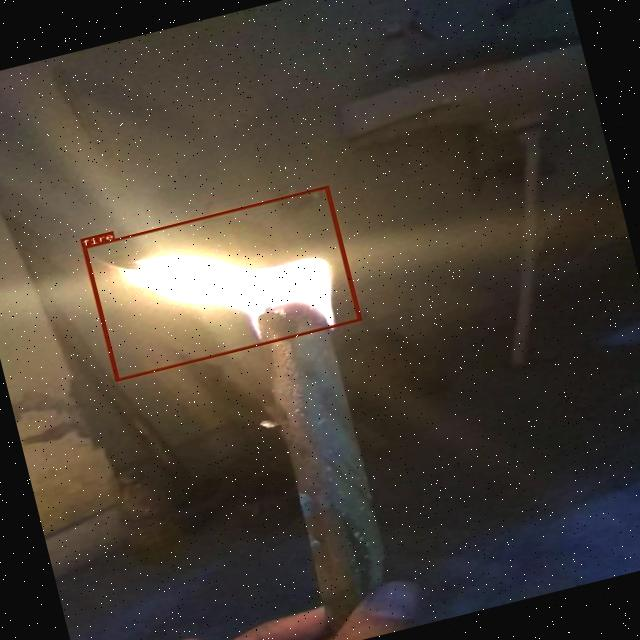fire: (82, 186, 360, 380)
